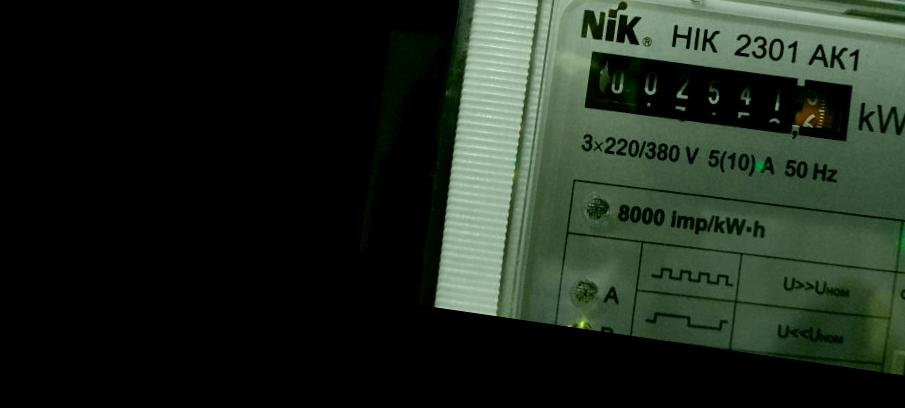0: (639, 63, 663, 99), (608, 65, 629, 96)
1: (766, 79, 787, 114)
2: (670, 67, 696, 103)
4: (736, 75, 757, 108)
5: (704, 73, 724, 107)
6: (799, 107, 818, 130)
screen: (567, 31, 877, 163)
